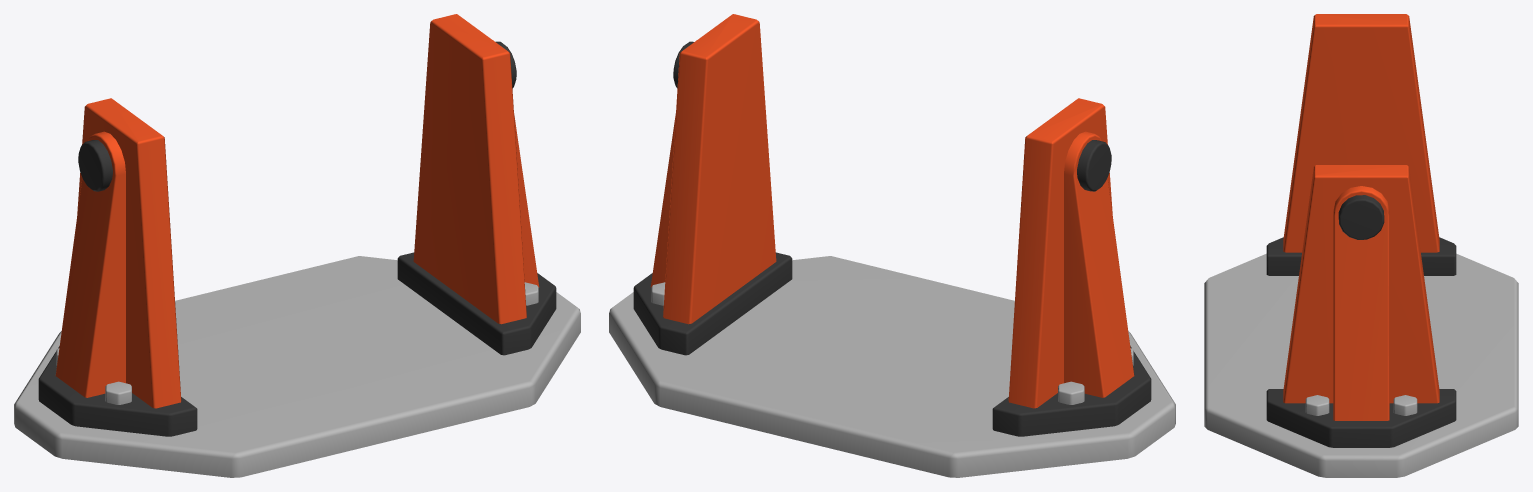
File: meltingpot_001_001.fbx
3 views of the same model, side by side, from view 1: azimuth 30°, elevation 25°; view 2: azimuth 150°, elevation 25°; view 3: azimuth 270°, elevation 25° (orthographic). The views are drawn at different scales.
Parts seen in each view (by area): view 1: meltingpot_001_001; view 2: meltingpot_001_001; view 3: meltingpot_001_001.
Boxes of the visible parts, box(x1,y1,x2,y2) form: meltingpot_001_001: box(14, 14, 580, 477); meltingpot_001_001: box(609, 14, 1175, 477); meltingpot_001_001: box(1204, 14, 1518, 477).
Bounding box in the file's own units: 1157 × 671 × 632.
